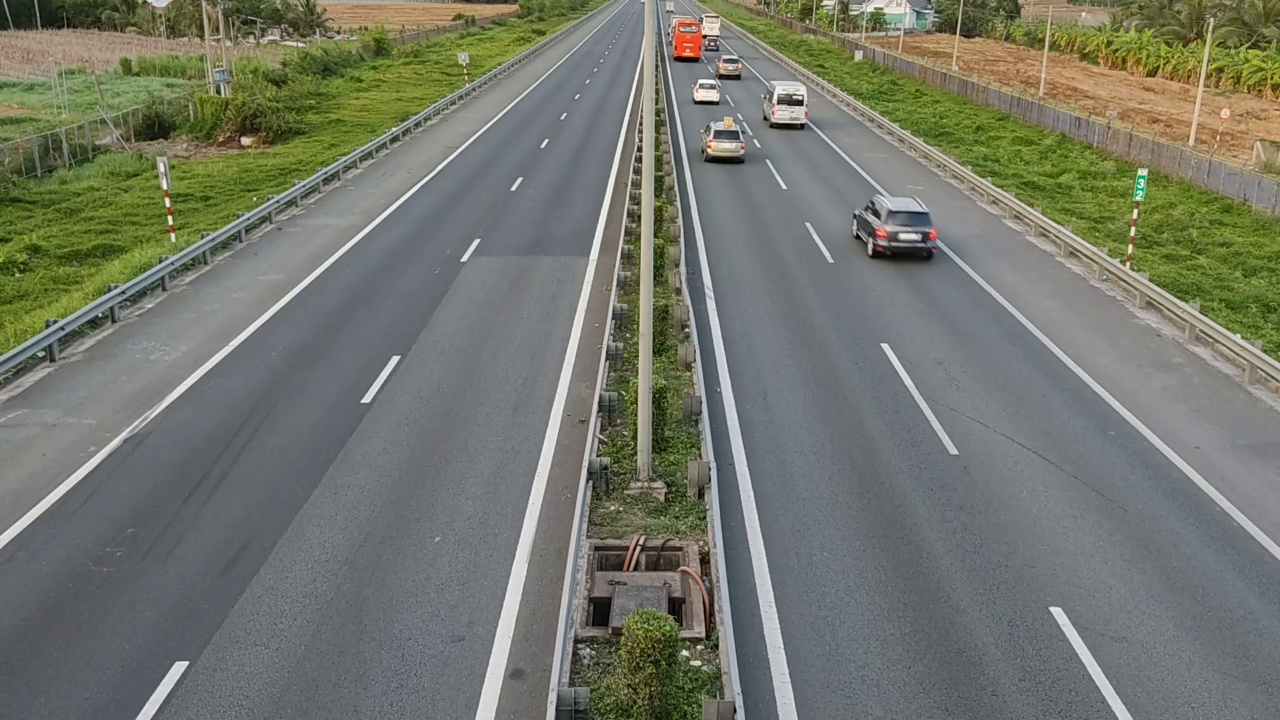car: (851, 193, 939, 259), (758, 74, 811, 131), (701, 122, 747, 163), (691, 79, 723, 105), (714, 55, 744, 80)
